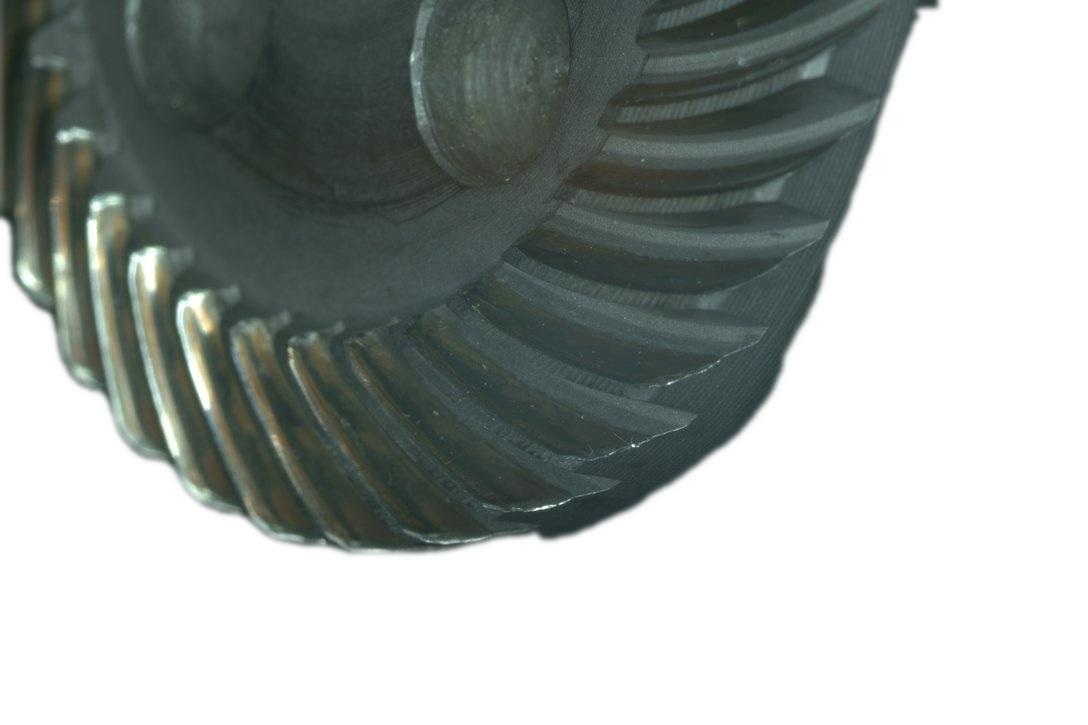defect: (280, 344, 493, 555), (353, 351, 594, 526), (173, 290, 296, 533), (235, 333, 368, 552), (129, 254, 218, 498), (89, 198, 155, 450), (44, 170, 87, 375), (3, 167, 41, 297)
